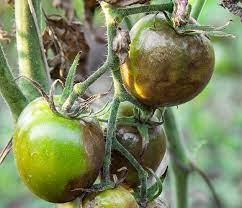tomato late blight: (13, 99, 106, 205), (120, 15, 217, 110), (108, 78, 170, 190)
